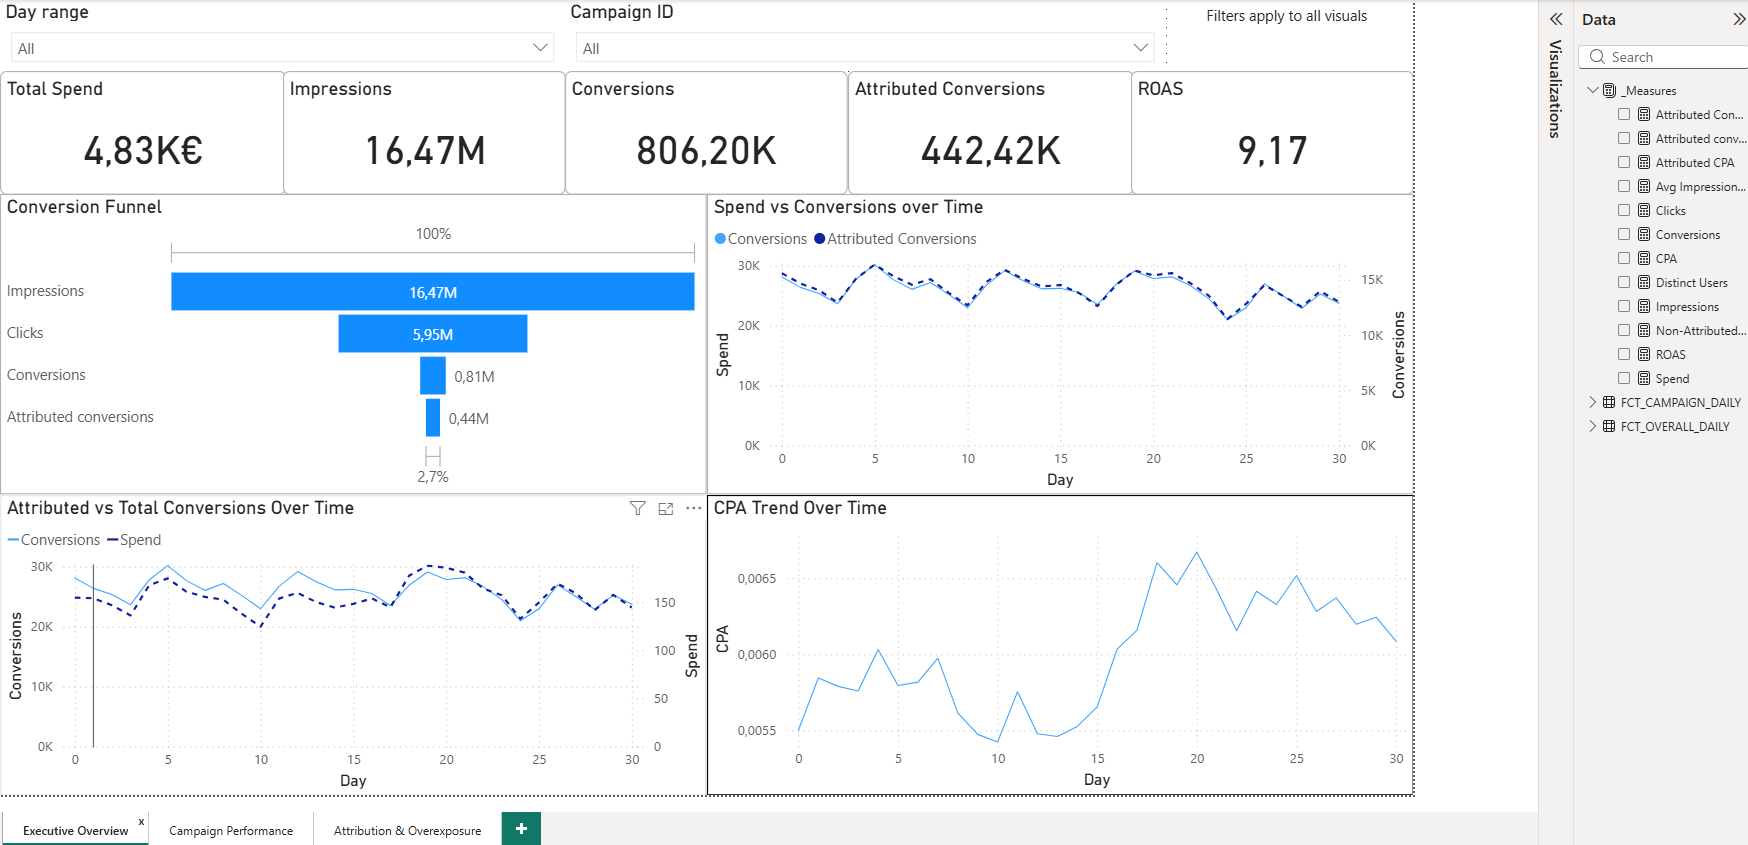

This screenshot's page, from the dashboard's own definition file:
{"tool":"powerbi","page":{"name":"Executive Overview","canvas":[1280,720],"ordinal":0},"visuals":[{"type":"card","title":"Total Spend","fields":{"Values":["_Measures.Spend"]},"box":[0,64,259,112],"z":0},{"type":"card","title":"Conversions","fields":{"Values":["_Measures.Conversions"]},"box":[512,64,256,112],"z":1000},{"type":"card","title":"Impressions","fields":{"Values":["_Measures.Impressions"]},"box":[256,64,256,112],"z":2000},{"type":"card","title":"Attributed Conversions","fields":{"Values":["_Measures.Attributed_conversions"]},"box":[768,64,259,112],"z":3000},{"type":"card","title":"ROAS","fields":{"Values":["_Measures.ROAS"]},"box":[1024,64,256,112],"z":4000},{"type":"funnel","title":"Conversion Funnel","fields":{"Y":["_Measures.Impressions","_Measures.Clicks","_Measures.Conversions","_Measures.Attributed_conversions"]},"box":[0,176,640,272],"z":5000},{"type":"lineChart","title":"Attributed vs Total Conversions Over Time","fields":{"Y2":["Sum(FCT_CAMPAIGN_DAILY.SPEND)"],"Y":["Sum(FCT_CAMPAIGN_DAILY.CONVERSIONS)"],"Category":["FCT_CAMPAIGN_DAILY.EVENT_DAY_BUCKET"]},"box":[0,448,640,272],"z":6000},{"type":"lineChart","title":"Spend vs Conversions over Time","fields":{"Category":["FCT_CAMPAIGN_DAILY.EVENT_DAY_BUCKET"],"Y":["Sum(FCT_CAMPAIGN_DAILY.CONVERSIONS)"],"Y2":["Sum(FCT_CAMPAIGN_DAILY.ATTRIBUTED_CONVERSIONS)"]},"box":[640,176,640,272],"z":7000},{"type":"lineChart","title":"CPA Trend Over Time","fields":{"Category":["FCT_CAMPAIGN_DAILY.EVENT_DAY_BUCKET"],"Y":["_Measures.CPA"]},"box":[640,448,640,272],"z":8000},{"type":"slicer","title":"Day range","fields":{"Values":["FCT_CAMPAIGN_DAILY.EVENT_DAY_BUCKET"]},"box":[0,0,512,64],"z":9000},{"type":"slicer","title":"Campaign ID","fields":{"Values":["FCT_CAMPAIGN_DAILY.CAMPAIGN_ID"]},"box":[512,0,544,64],"z":10000},{"type":"textbox","box":[1088,0,192,64],"z":11000}]}

Visuals, with their boxes on the page's 1280x720 design canvas (x1, y1, x2, y2). These are canvas units, not pixel positions in the 1748x845 screenshot, which may show the page scaled, cropped or inside an application window:
"Total Spend" card: {"x1": 0, "y1": 64, "x2": 259, "y2": 176}
"Conversions" card: {"x1": 512, "y1": 64, "x2": 768, "y2": 176}
"Impressions" card: {"x1": 256, "y1": 64, "x2": 512, "y2": 176}
"Attributed Conversions" card: {"x1": 768, "y1": 64, "x2": 1027, "y2": 176}
"ROAS" card: {"x1": 1024, "y1": 64, "x2": 1280, "y2": 176}
"Conversion Funnel" funnel: {"x1": 0, "y1": 176, "x2": 640, "y2": 448}
"Attributed vs Total Conversions Over Time" lineChart: {"x1": 0, "y1": 448, "x2": 640, "y2": 720}
"Spend vs Conversions over Time" lineChart: {"x1": 640, "y1": 176, "x2": 1280, "y2": 448}
"CPA Trend Over Time" lineChart: {"x1": 640, "y1": 448, "x2": 1280, "y2": 720}
"Day range" slicer: {"x1": 0, "y1": 0, "x2": 512, "y2": 64}
"Campaign ID" slicer: {"x1": 512, "y1": 0, "x2": 1056, "y2": 64}
textbox: {"x1": 1088, "y1": 0, "x2": 1280, "y2": 64}
